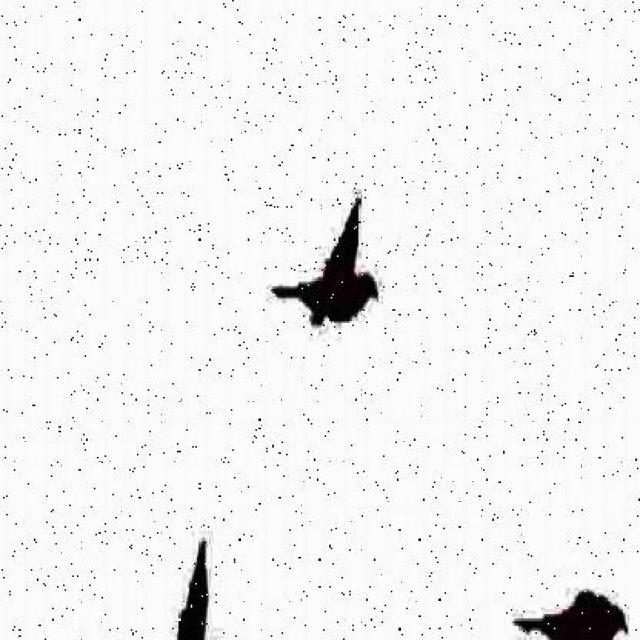bird: (262, 191, 389, 357), (488, 568, 620, 638), (165, 520, 240, 638)
